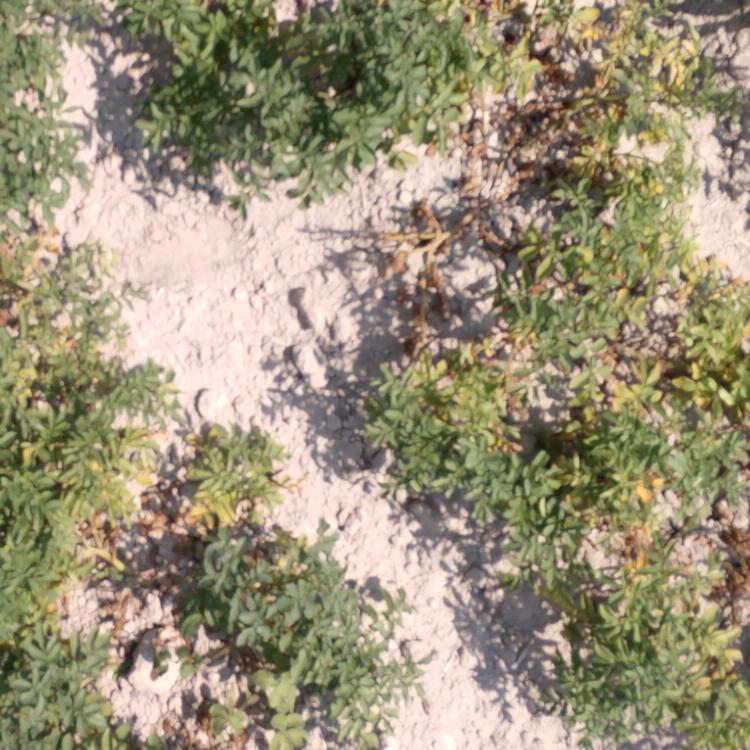healthy: (161, 536, 383, 747), (111, 1, 306, 204), (321, 1, 463, 187), (1, 1, 101, 199), (1, 630, 146, 742)
stressed: (1, 205, 139, 623), (458, 1, 733, 146), (544, 303, 674, 579), (557, 578, 750, 750), (362, 327, 535, 510), (510, 161, 683, 300), (143, 367, 281, 539), (689, 258, 748, 525), (378, 200, 498, 255)
